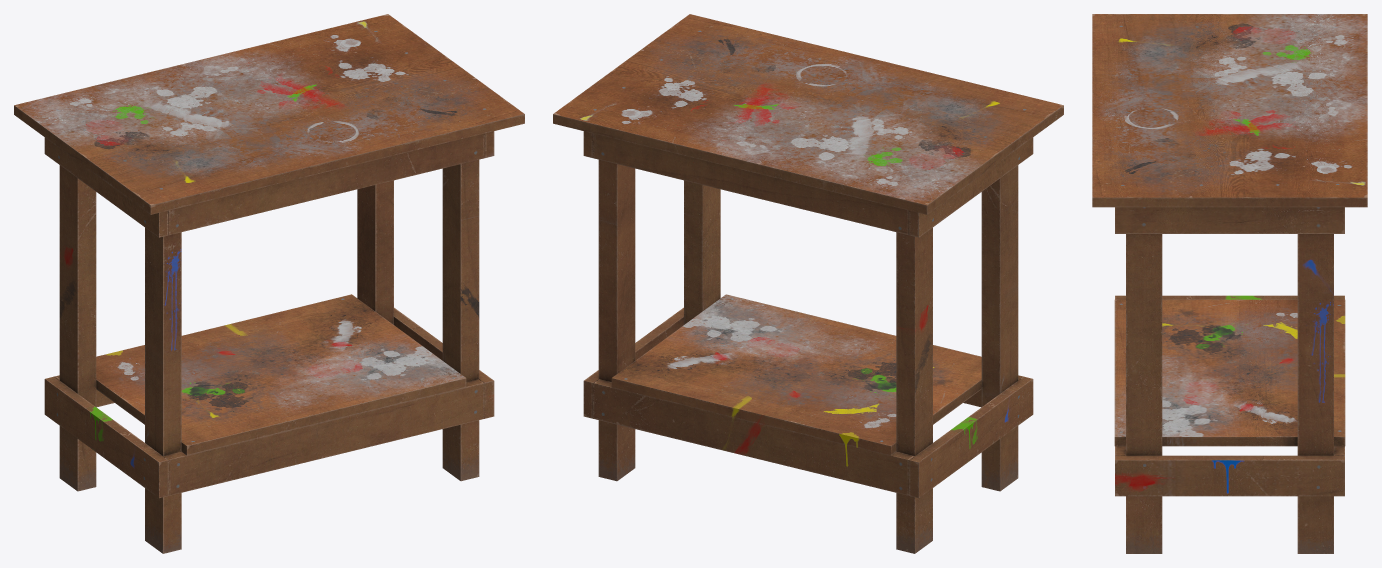
File: WorkTable_SM_002.fbx
3 views of the same model, side by side, from view 1: azimuth 30°, elevation 25°; view 2: azimuth 150°, elevation 25°; view 3: azimuth 270°, elevation 25° (orthographic).
Parts seen in each view (by area): view 1: WorkTable_SM_002; view 2: WorkTable_SM_002; view 3: WorkTable_SM_002.
Boxes of the visible parts, x1=… form: WorkTable_SM_002: x1=14, y1=14, x2=524, y2=553; WorkTable_SM_002: x1=553, y1=14, x2=1063, y2=553; WorkTable_SM_002: x1=1092, y1=14, x2=1367, y2=553.
Size of the model in its own units: 78.74 by 73.99 by 49.87.
